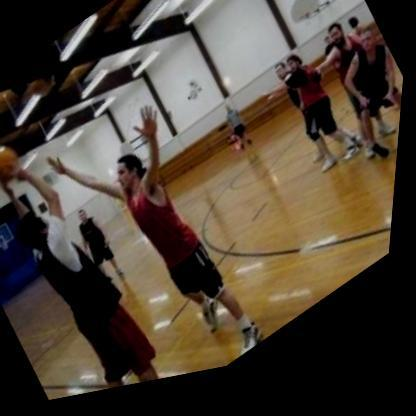basketball: (0, 129, 31, 189)
